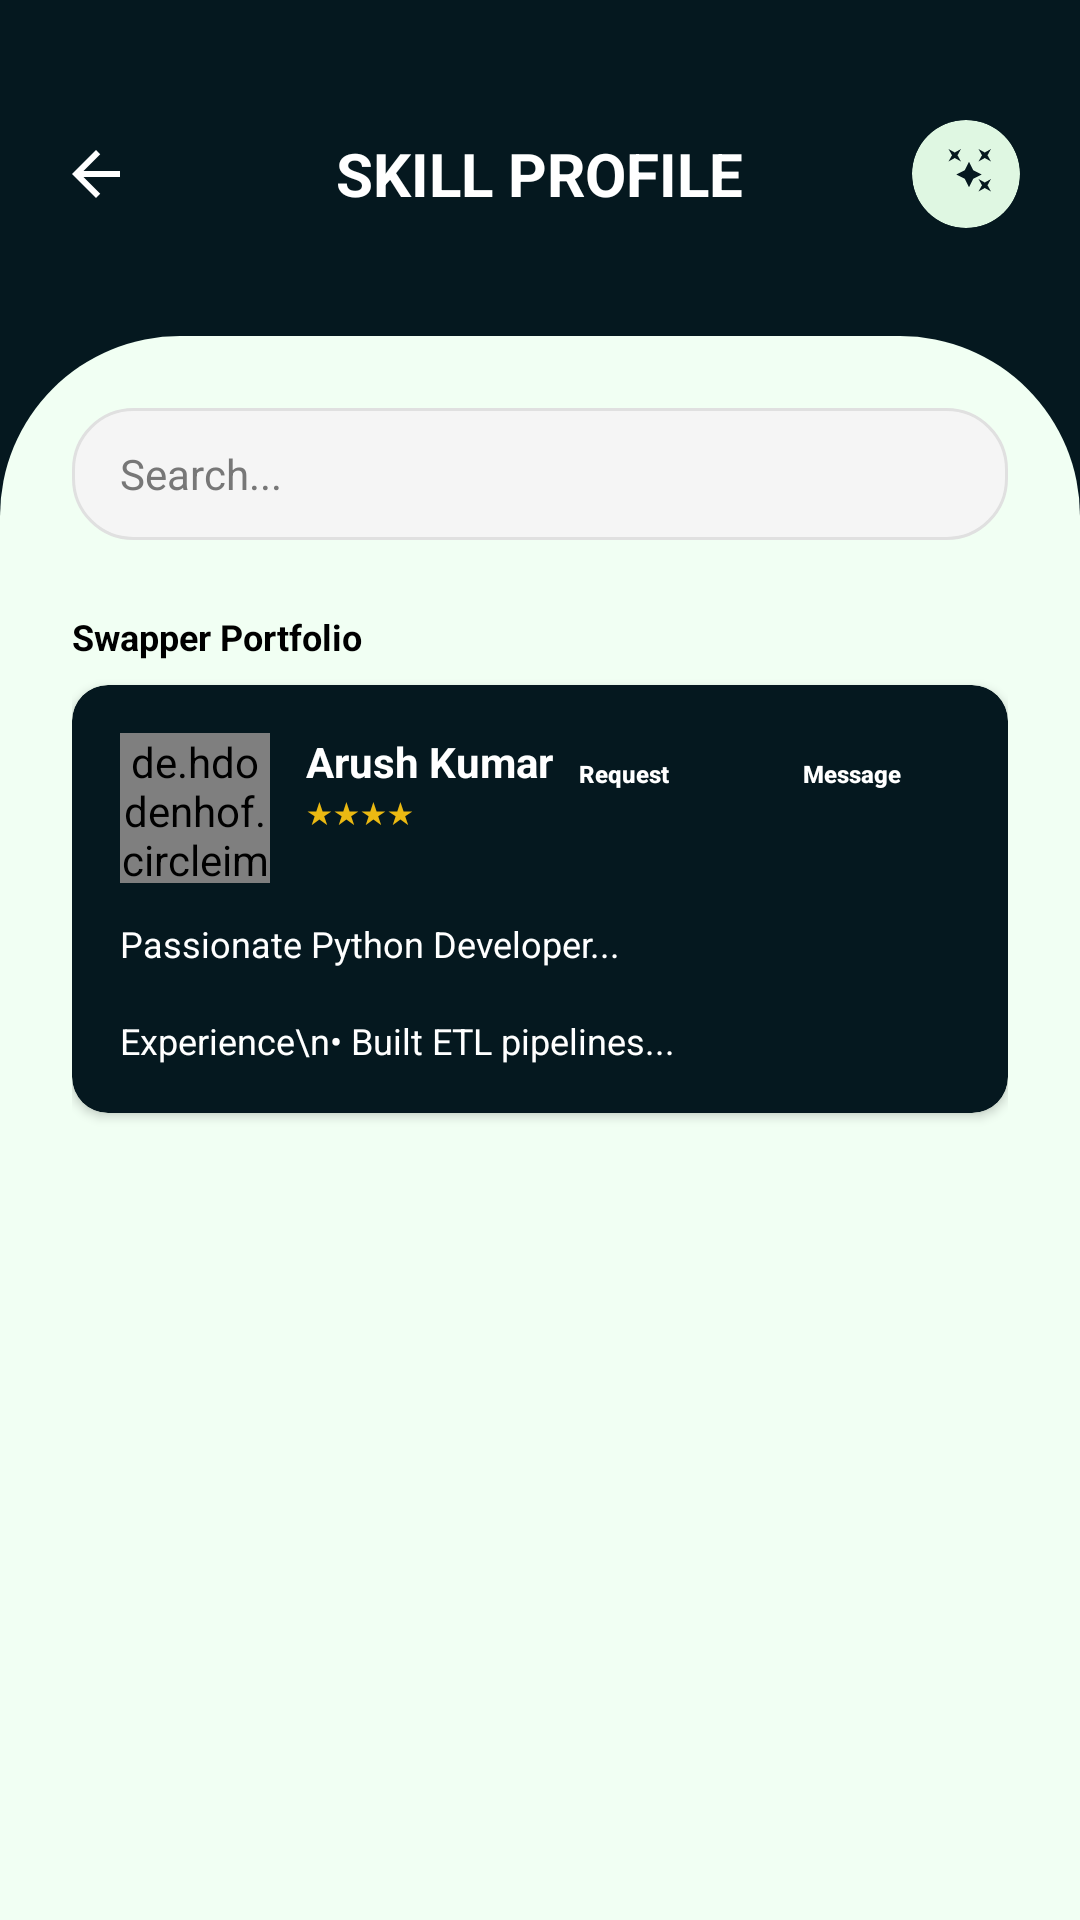

Locate icon controls on the screen. Image size 1080 x 1920, boxes as (x1, y1, x2, y2).
ai stars: (948, 149, 991, 192)
